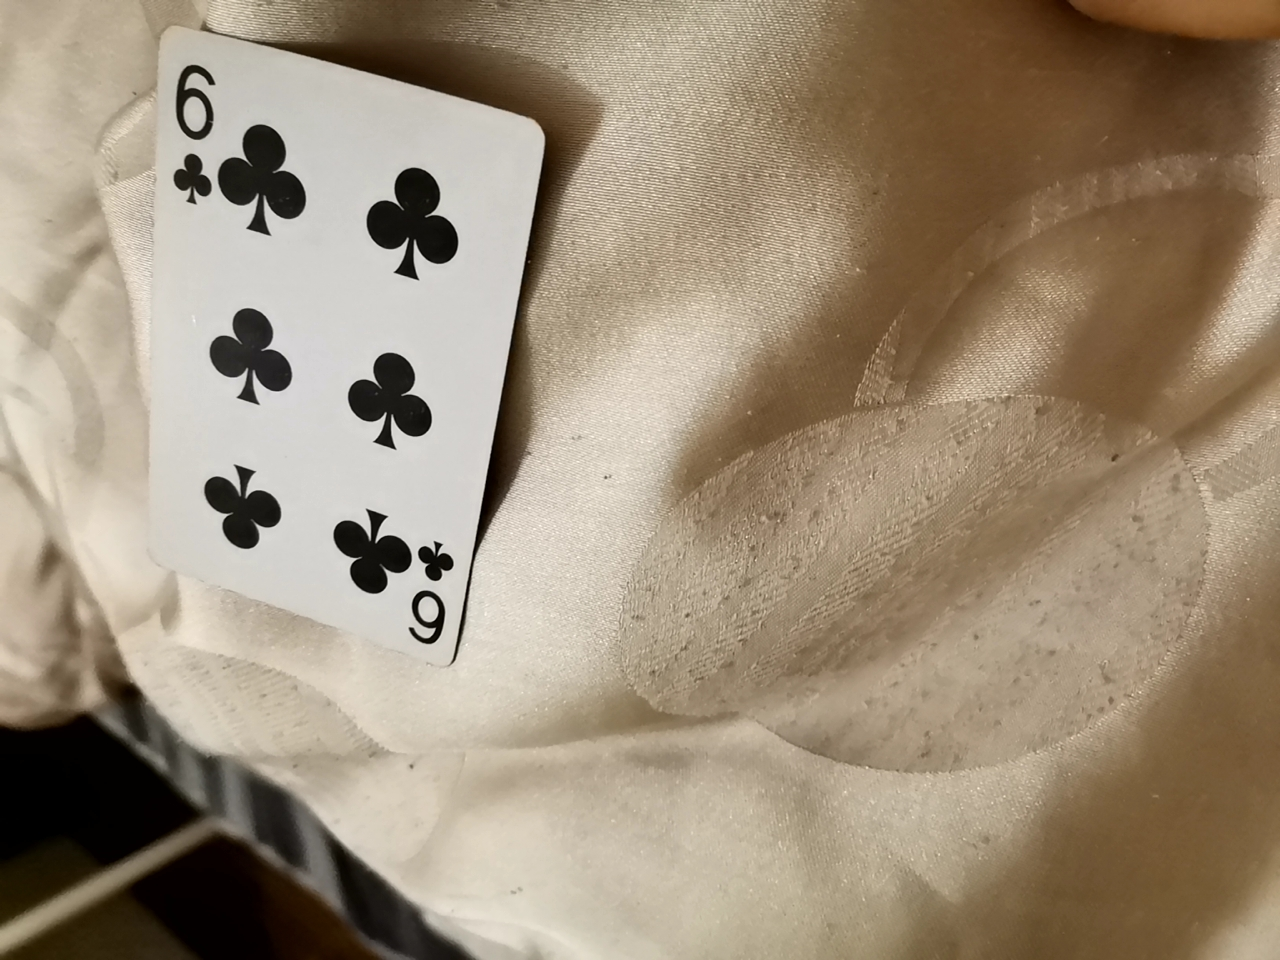mh 6: (130, 52, 538, 690)
